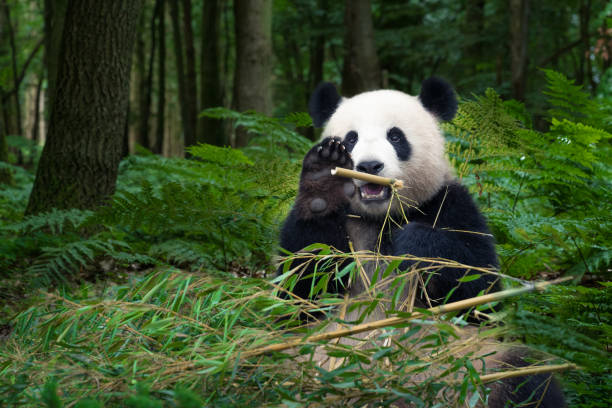panda: (294, 70, 482, 230)
